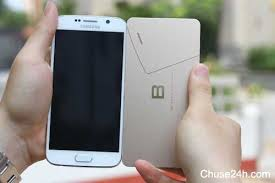bphone: (122, 13, 199, 170)
